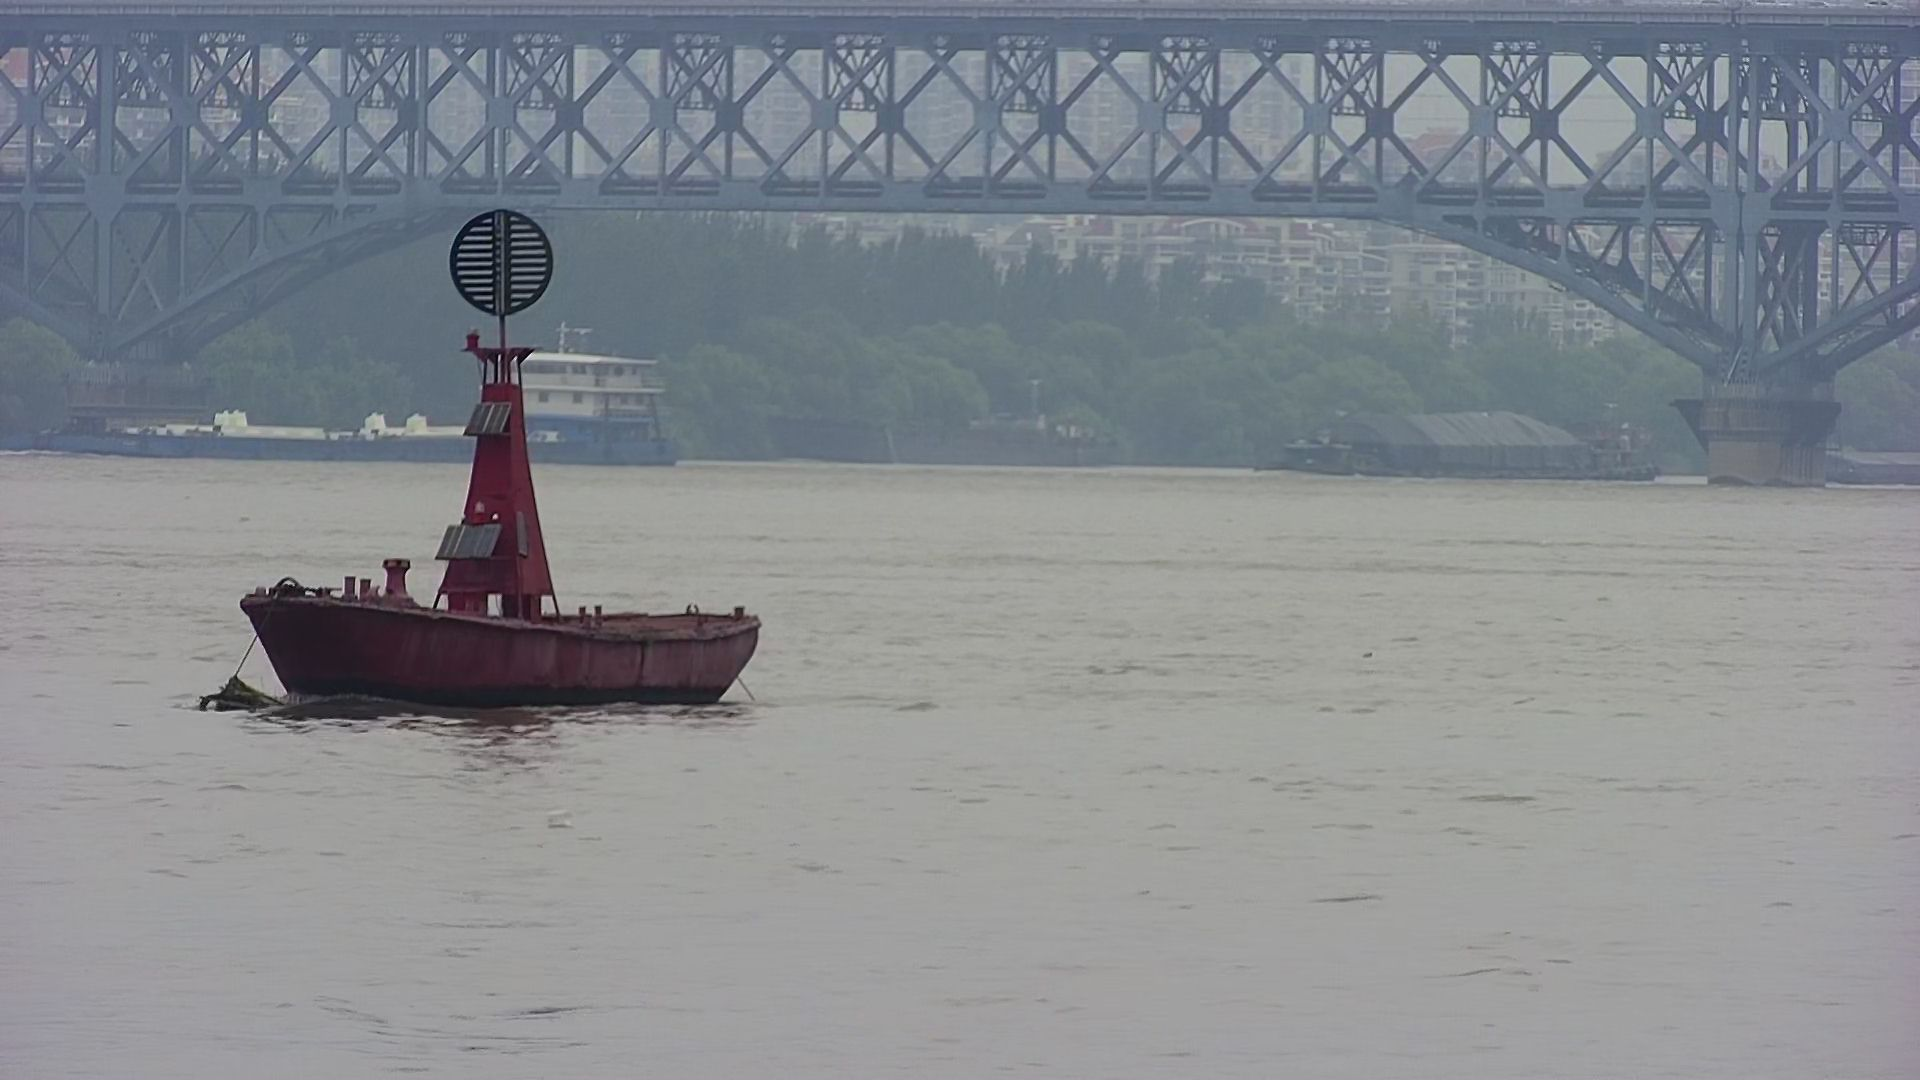boat: (204, 199, 816, 704)
bridge: (1, 1, 1913, 491)
ship: (29, 319, 720, 483), (1240, 384, 1687, 492), (758, 365, 1146, 473)
